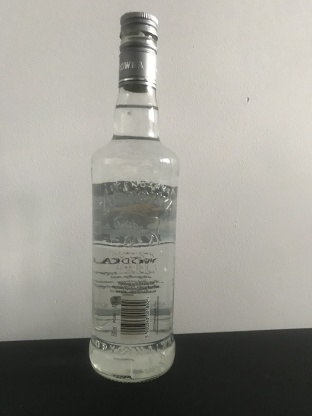nakretka: (117, 8, 159, 93)
